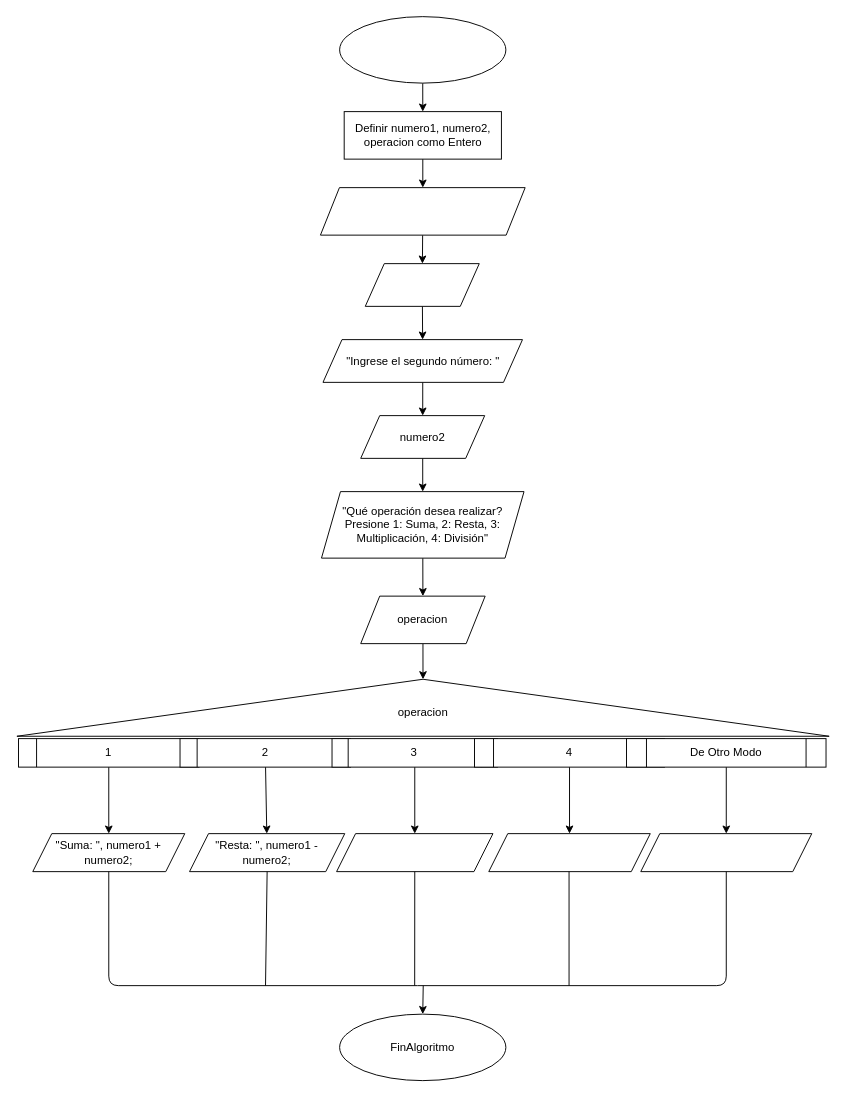
The diagram is 846 pixels wide and 1097 high, and some of its shapes have lost their labels. Here are the shapes that lost their labels. From the top down, the box of each, then its label:
(339, 16, 506, 83): Algoritmo Ejercicio5
(319, 187, 525, 235): "Ingrese el primer número: "
(364, 263, 479, 306): numero1
(336, 833, 493, 872): "Multiplicación: ", numero1 * numero2;
(488, 833, 650, 872): "División: ", numero1 / numero2;
(640, 833, 812, 872): "La operación ingresada no es válida.";
